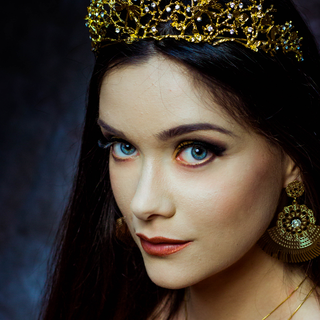eye: (174, 136, 227, 166), (104, 134, 141, 162)
